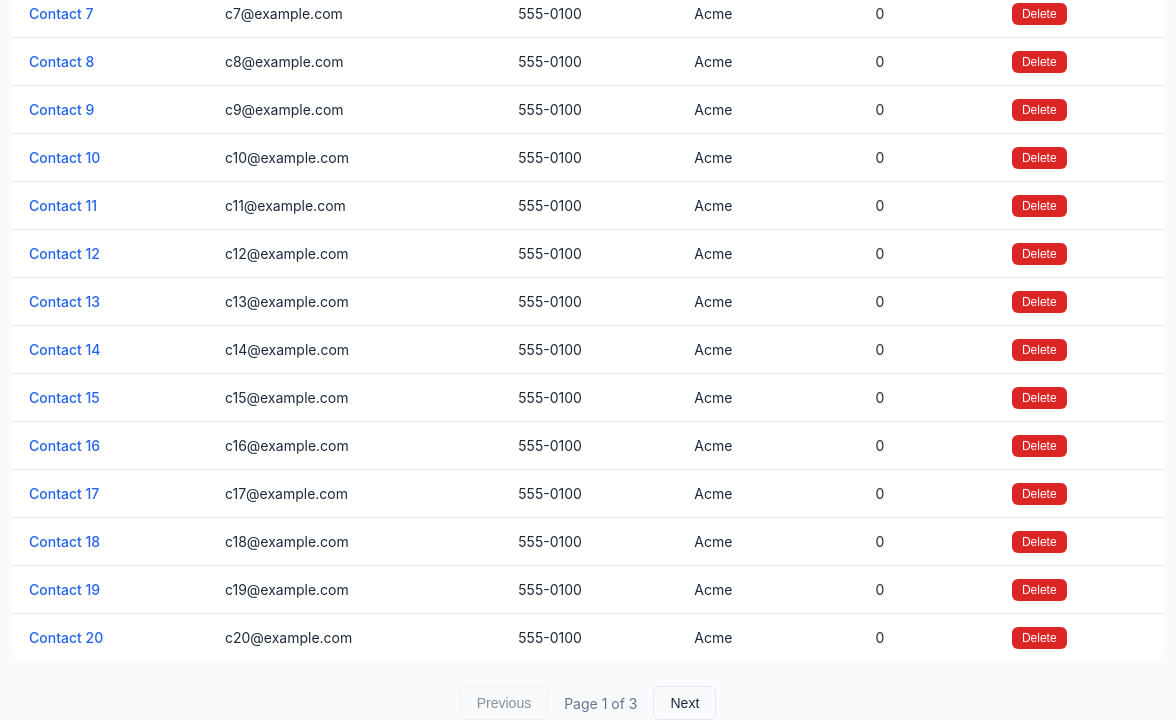
ContactList search › resets to page 1 when submitting a search
(page scrolled)
Expected: the text "Page 1 of 3" is shown, left=564, top=692, right=638, bottom=714
Click the button "Next": (685, 703) left=654, top=686, right=716, bottom=719
(page scrolled)
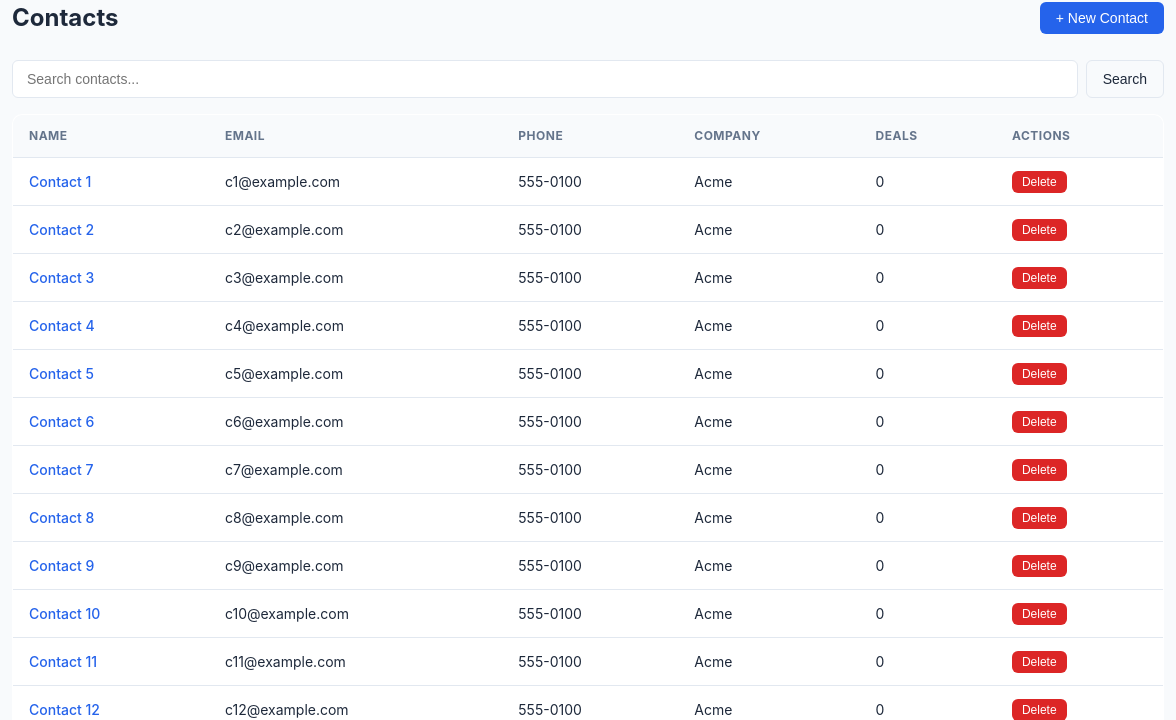
In the field with placeholder "Search contacts...": (545, 79) left=12, top=60, right=1078, bottom=98, type "test"
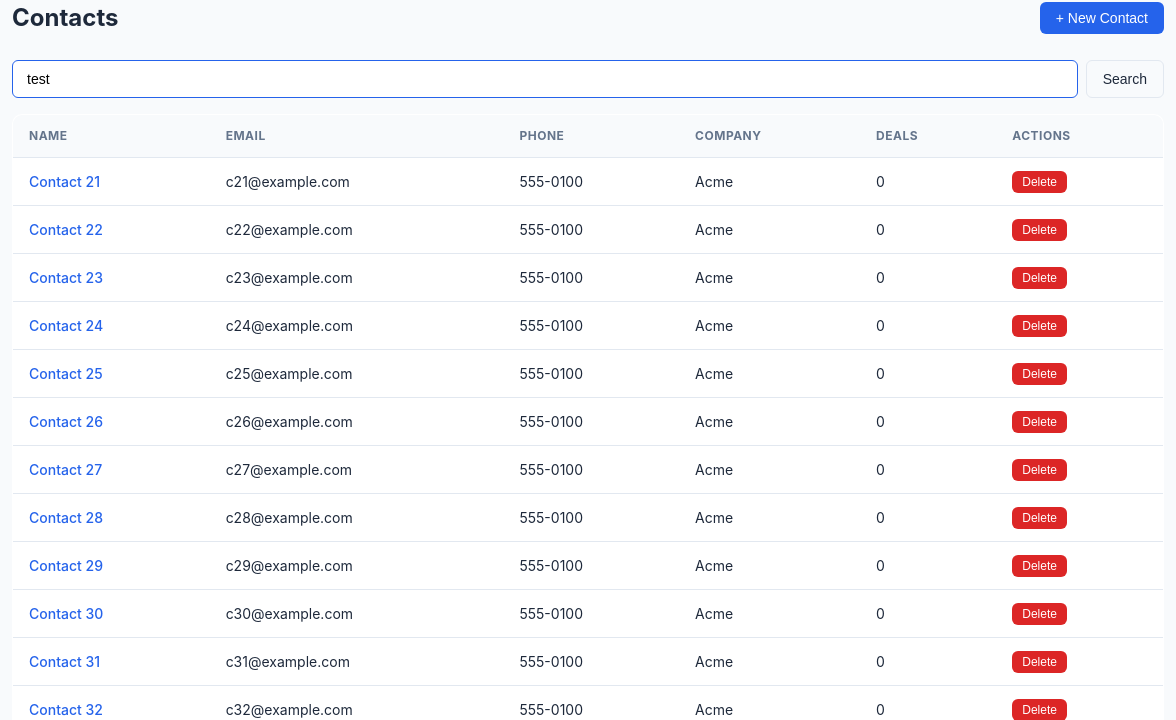
Click the button "Search": (1125, 79) left=1086, top=60, right=1164, bottom=98
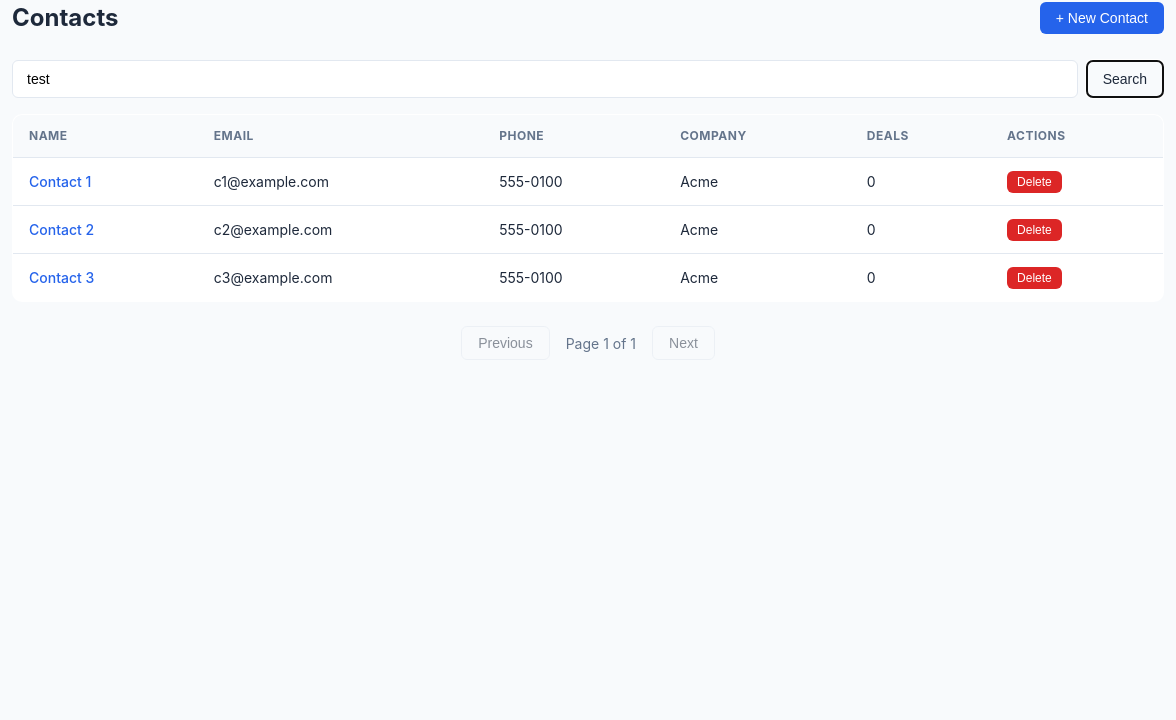
Expected: the text "Page 1 of 1" is shown, left=566, top=332, right=636, bottom=354
